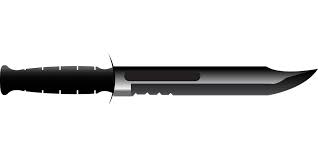knife: (1, 53, 318, 112)
